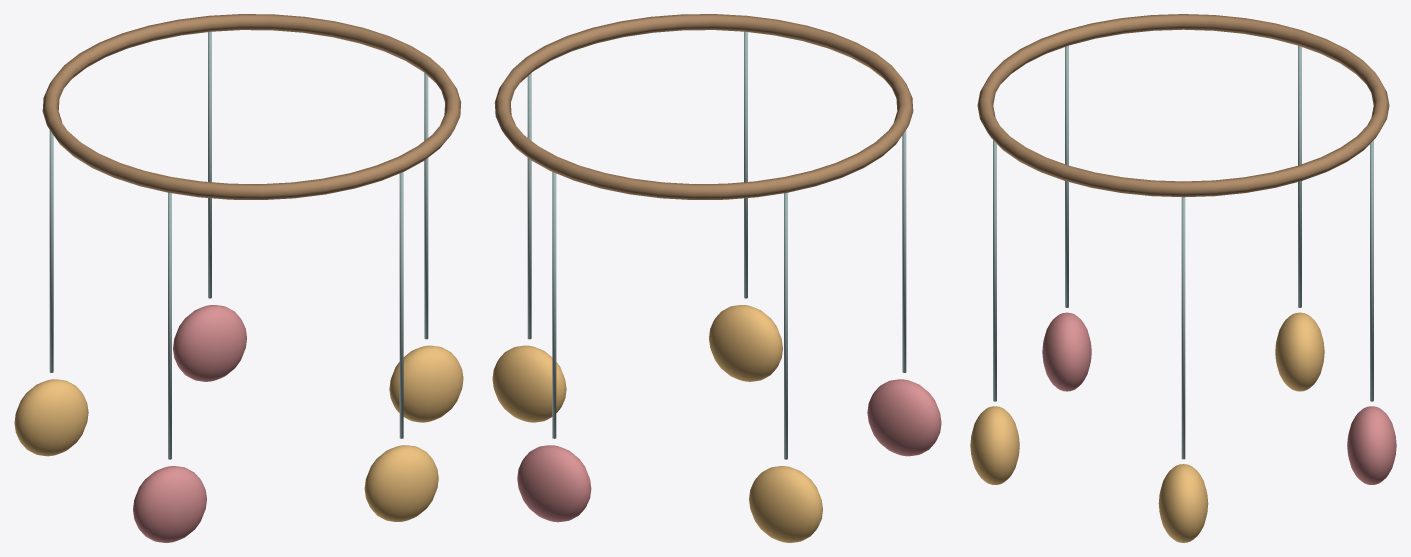
The model's file is atelier-mobile-decoration.glb.
3 views of the same model, side by side, from view 1: azimuth 30°, elevation 25°; view 2: azimuth 150°, elevation 25°; view 3: azimuth 270°, elevation 25° (orthographic).
Parts seen in each view (by area): view 1: legs.190, artGold.020, flower.008, fabric.093; view 2: legs.190, artGold.020, flower.008, fabric.093; view 3: legs.190, artGold.020, flower.008, fabric.093.
Boxes of the visible parts, <box> form: legs.190: <box>42,14,461,199</box>; artGold.020: <box>14,345,463,521</box>; flower.008: <box>133,305,246,542</box>; fabric.093: <box>49,31,428,459</box>; legs.190: <box>494,14,913,199</box>; artGold.020: <box>492,305,822,542</box>; flower.008: <box>517,379,941,522</box>; fabric.093: <box>527,31,906,459</box>; legs.190: <box>977,14,1389,197</box>; artGold.020: <box>970,312,1324,542</box>; flower.008: <box>1042,312,1396,484</box>; fabric.093: <box>993,45,1373,459</box>.
Size of the model in its own units: 0.448 by 0.3969 by 0.4304.
